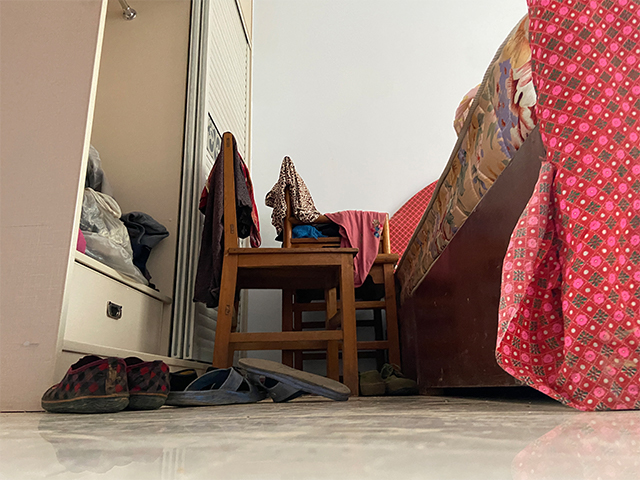bed: (390, 1, 640, 412)
cabinet: (1, 124, 251, 413)
slippers: (240, 357, 351, 403), (167, 364, 260, 404)
stool: (213, 131, 360, 397)
